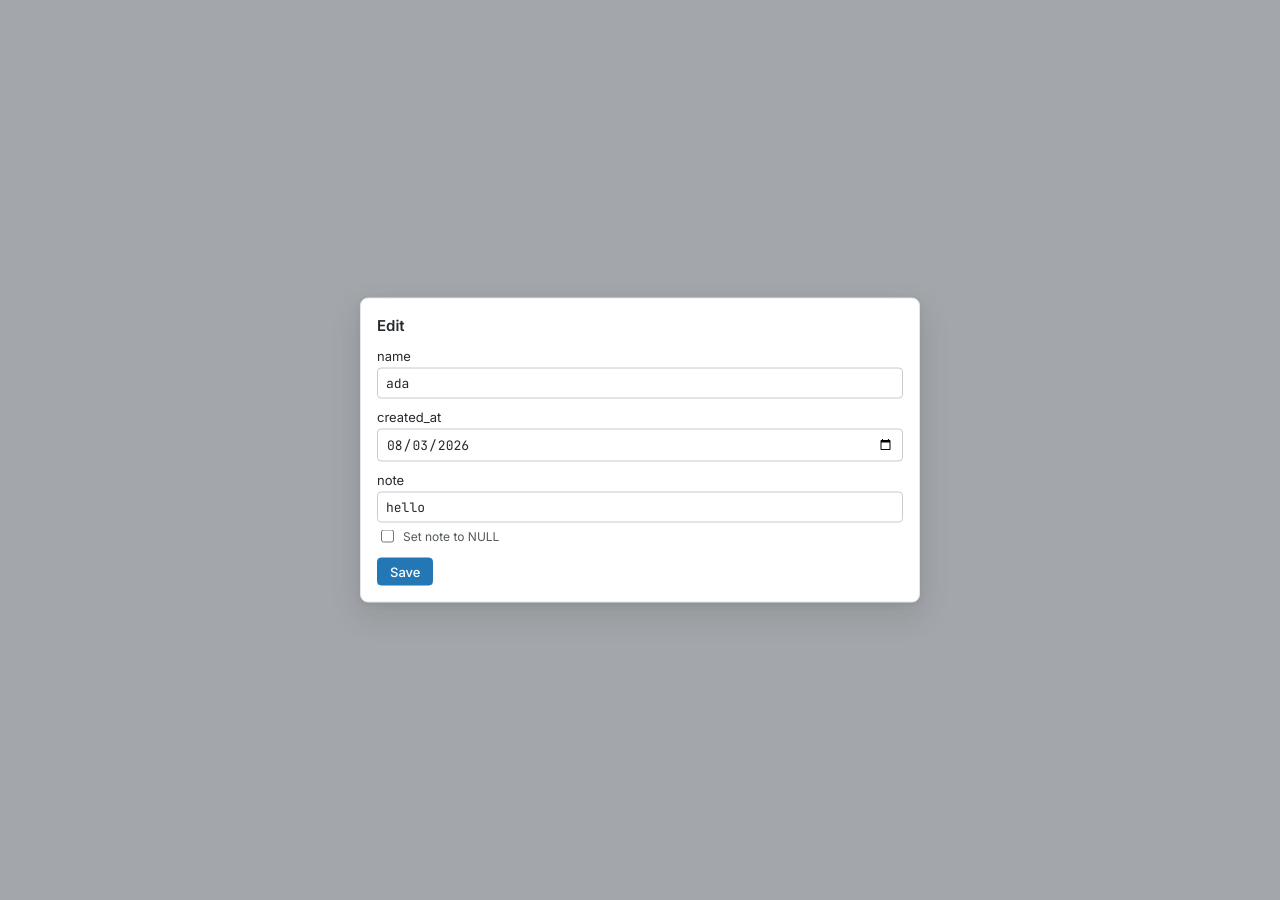
RowEditor › only changed columns are sent › does not send a column after NULL is toggled on and back off
This screenshot has width=1280, height=900.
Click the checkbox labelled "Set note to NULL".
click(388, 536)  # box [381,530,394,542]
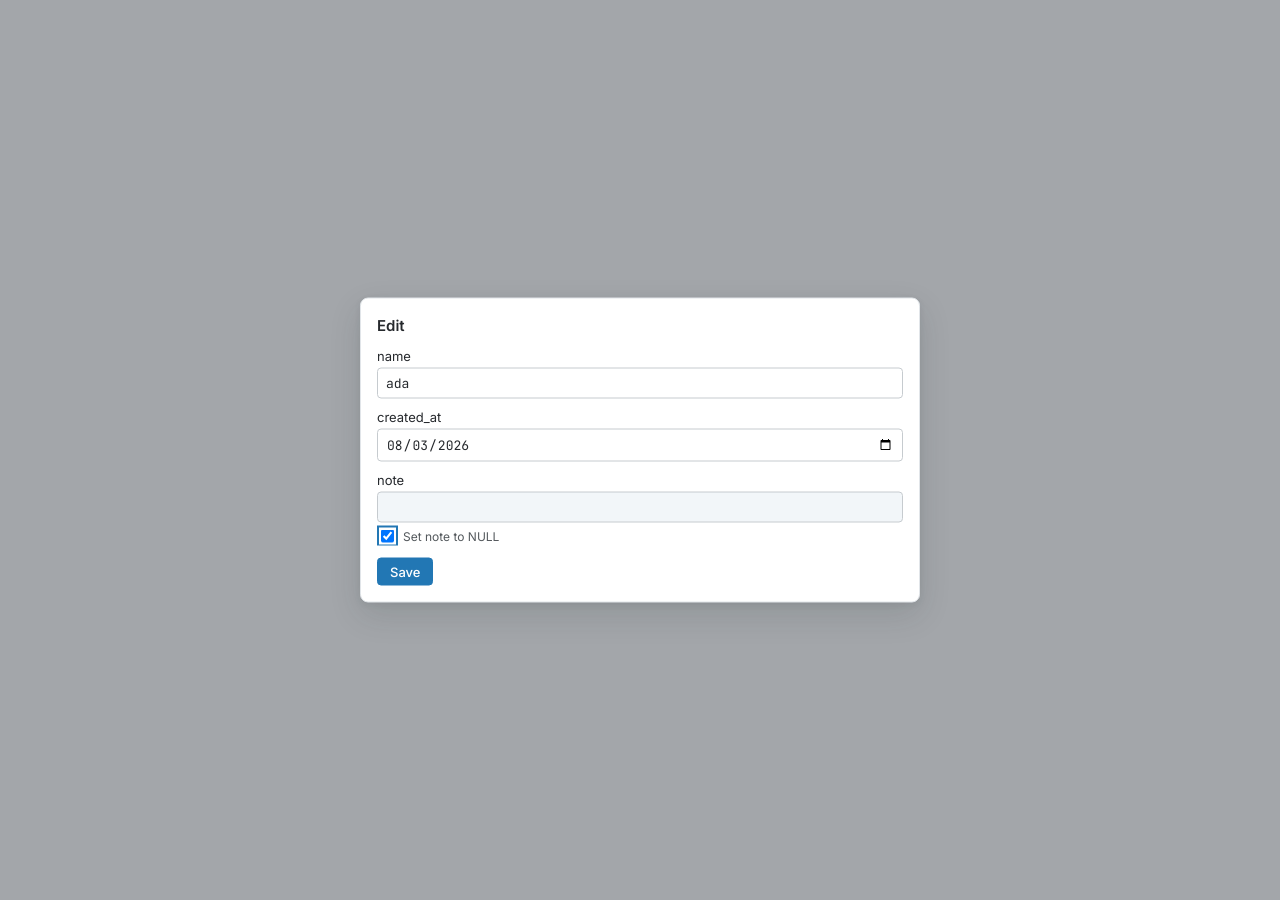
Click the checkbox labelled "Set note to NULL".
click(388, 536)  # box [381,530,394,542]
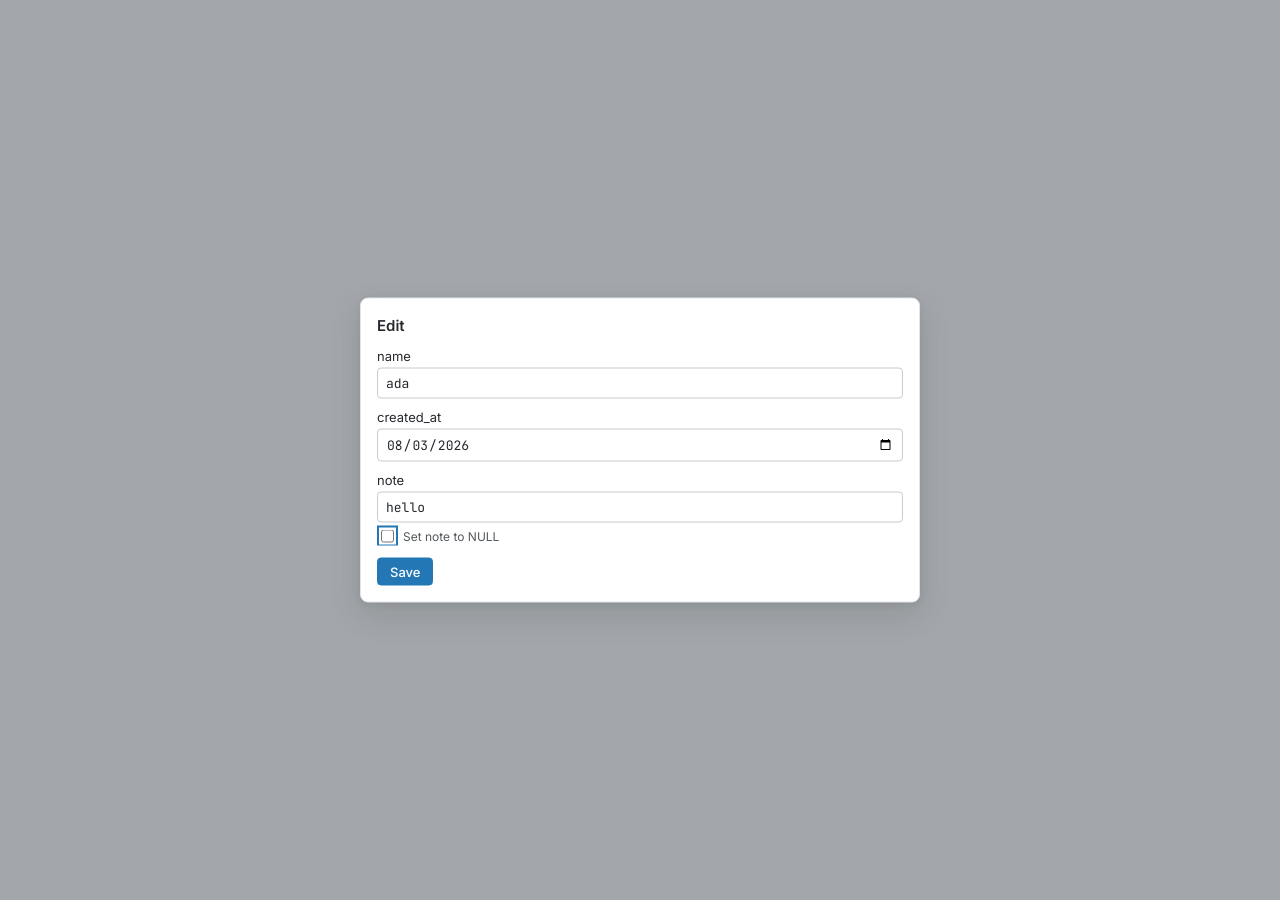
Click the button "Save".
click(405, 572)  # box [377,558,434,586]
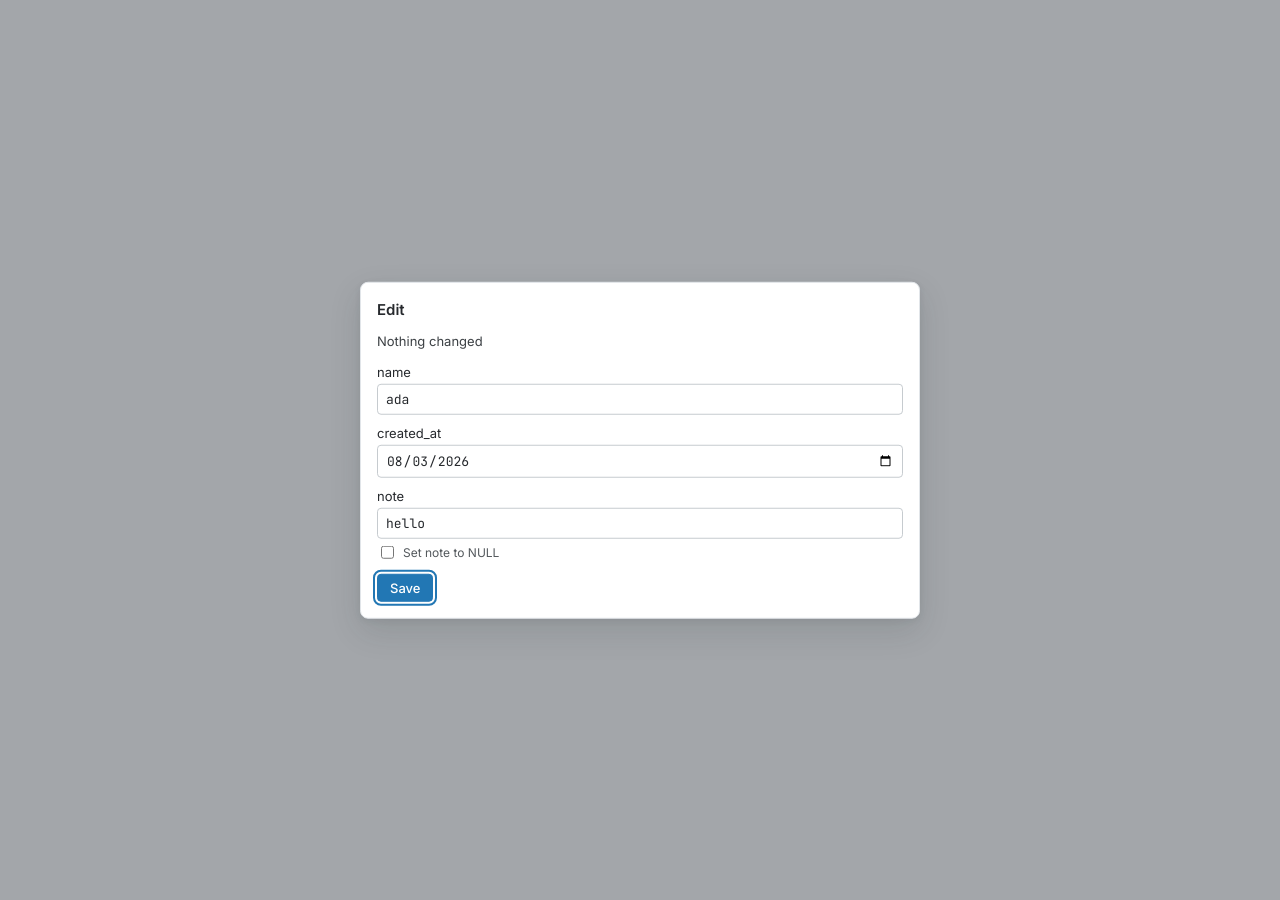
Result: the message reads "Nothing changed" at [377,333,483,349]
